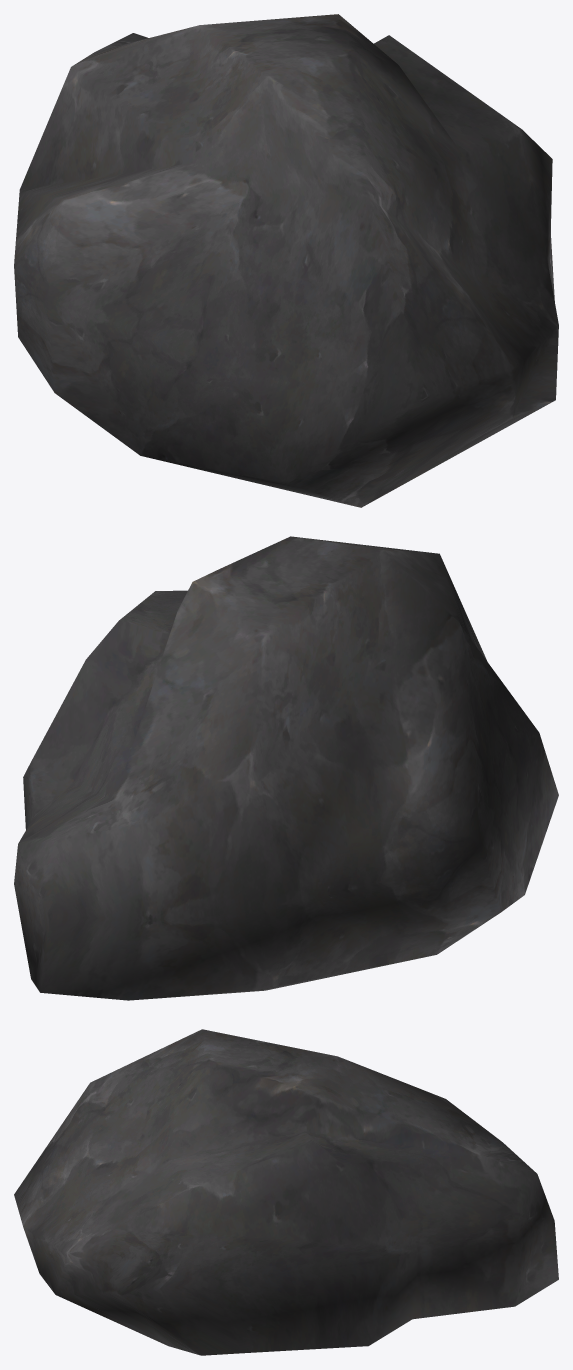
The model's file is cragrocksmall_b04.obj.
3 views of the same model, one above another, from view 1: azimuth 30°, elevation 25°; view 2: azimuth 150°, elevation 25°; view 3: azimuth 270°, elevation 25° (orthographic). The views are drawn at different scales.
Parts seen in each view (by area): view 1: world/expansion06/doodads/suramar/7sr_cragrocksmall_b04.m2_Geose; view 2: world/expansion06/doodads/suramar/7sr_cragrocksmall_b04.m2_Geose; view 3: world/expansion06/doodads/suramar/7sr_cragrocksmall_b04.m2_Geose.
Boxes of the visible parts, box(x1,y1,x2,y2) form: world/expansion06/doodads/suramar/7sr_cragrocksmall_b04.m2_Geose: box(14, 14, 558, 507); world/expansion06/doodads/suramar/7sr_cragrocksmall_b04.m2_Geose: box(14, 536, 558, 1000); world/expansion06/doodads/suramar/7sr_cragrocksmall_b04.m2_Geose: box(14, 1029, 558, 1355).
Bounding box in the file's own units: 4.88 × 3.92 × 7.24.
1 material, 1 textured.
